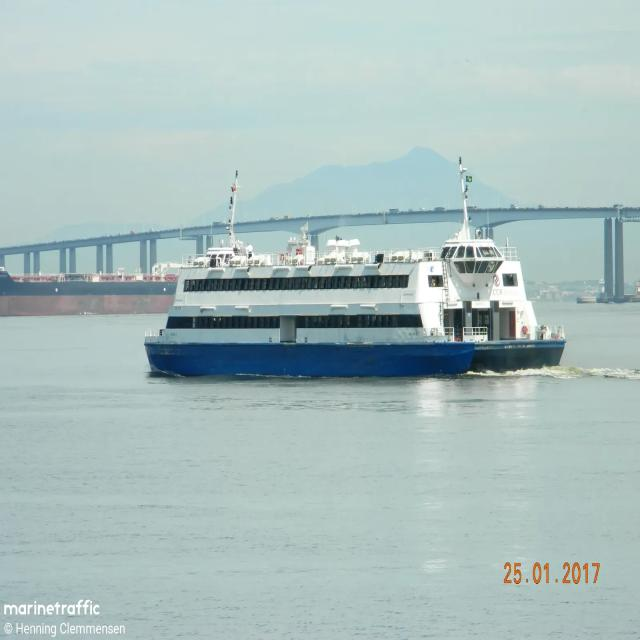Passenger: (144, 162, 565, 377)
